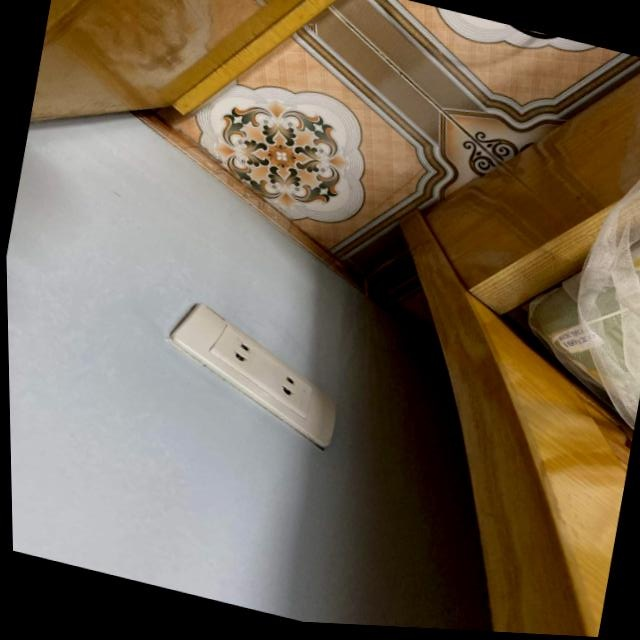outlet: (155, 294, 354, 452)
